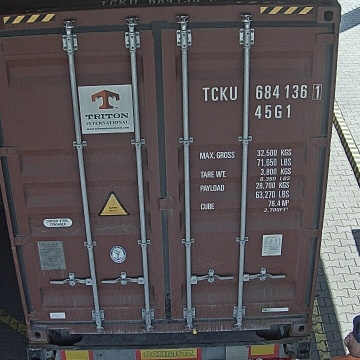serial_id: (202, 84, 321, 101)
